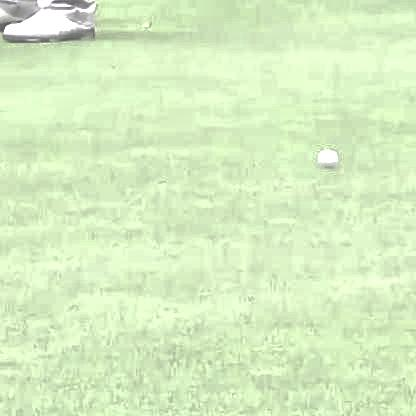golfball: (314, 145, 337, 168)
